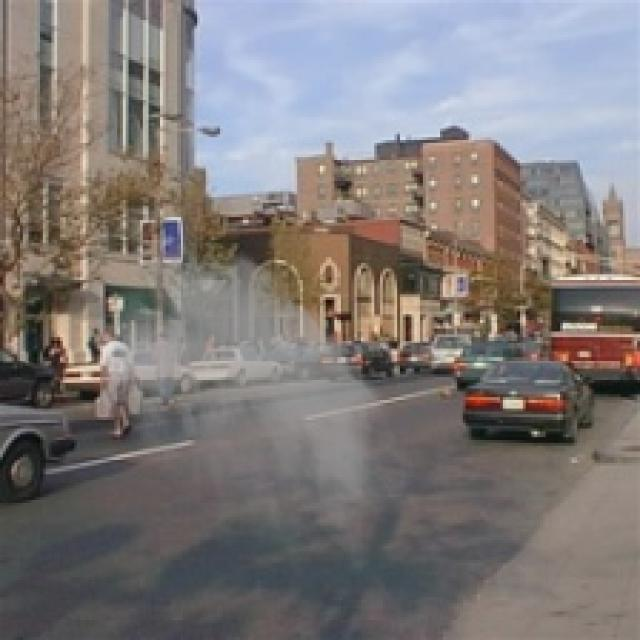smoke: (77, 229, 420, 577)
